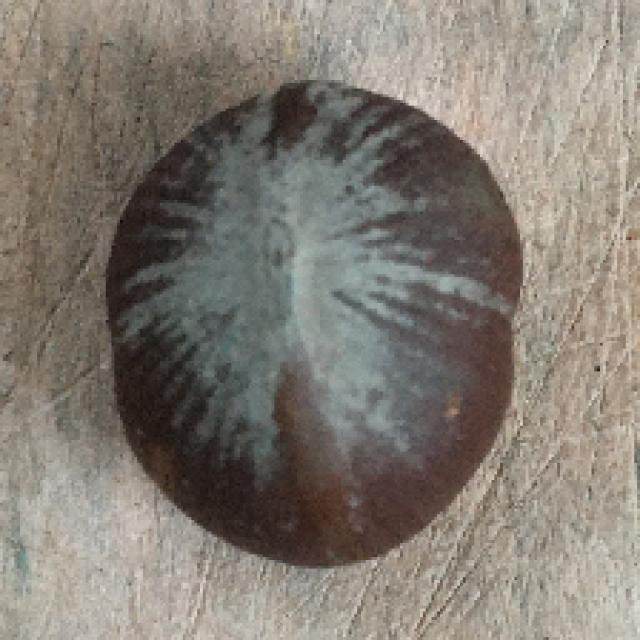damagedHazelnut: (106, 80, 526, 568)
